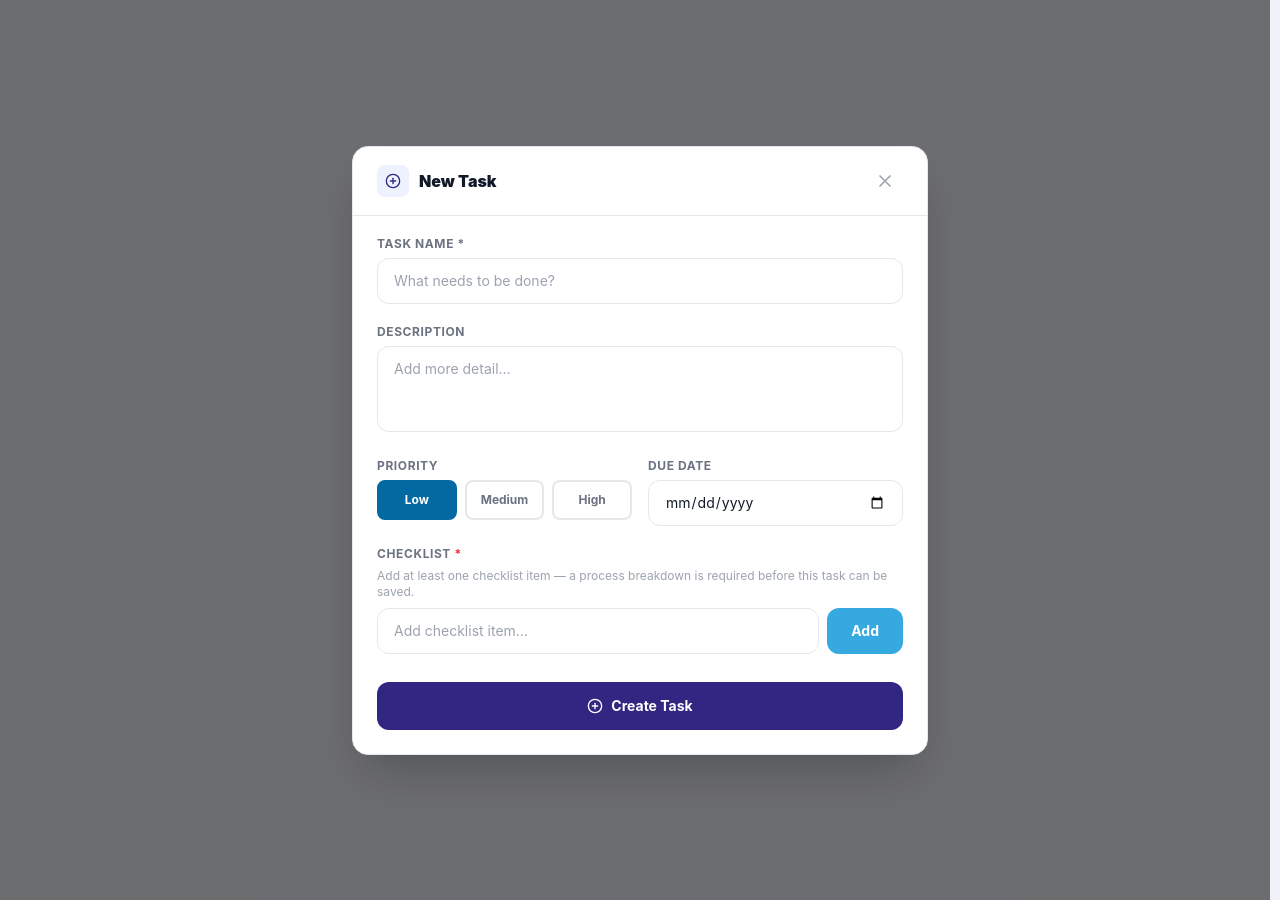
Test: TaskModal › requires at least one checklist item before save
The width and height of the screenshot is (1280, 900).
In the field with placeholder "What needs to be done?": (640, 280) [377, 258, 903, 304], type "Prepare project update"
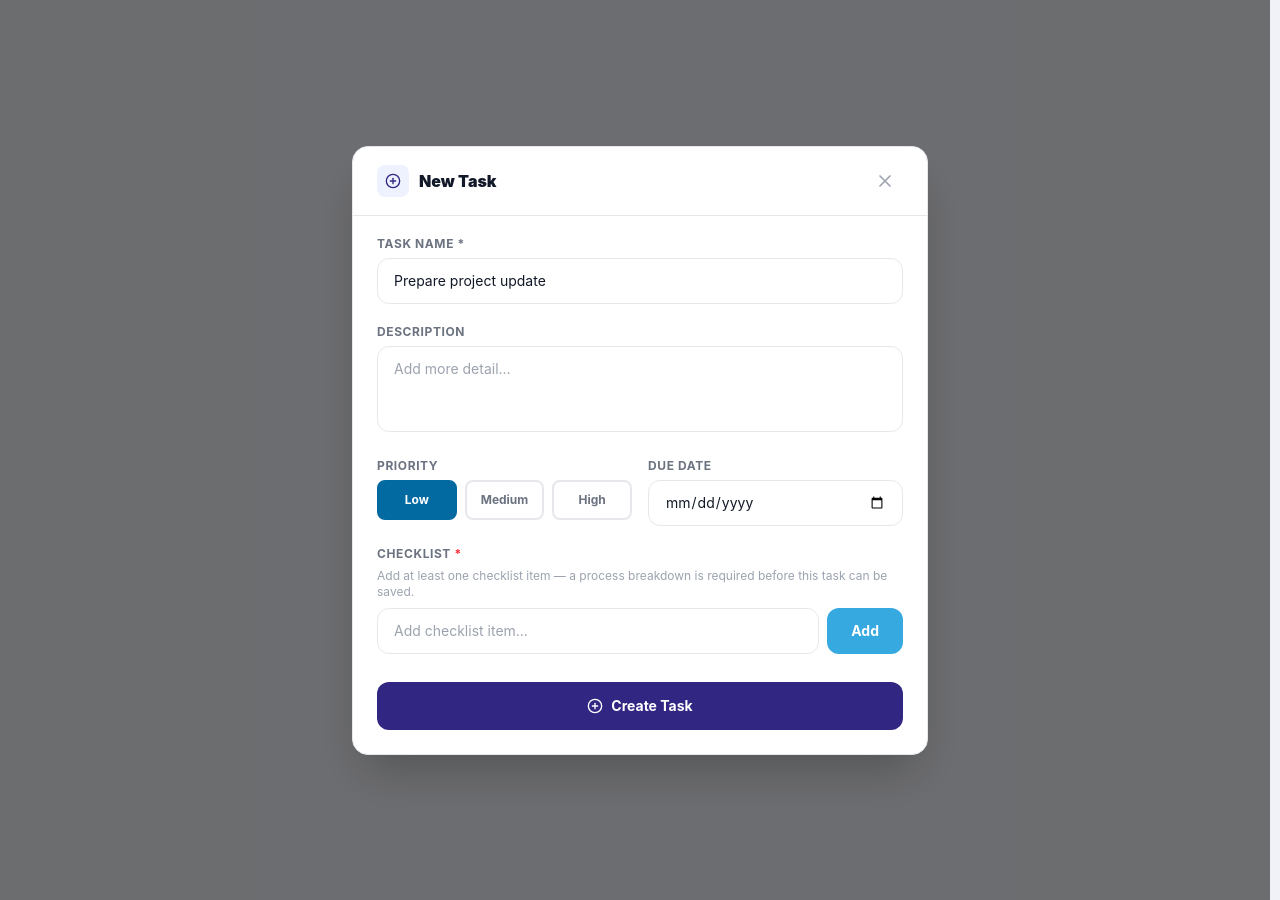
Click the button "Create Task": click(640, 706) [377, 682, 903, 730]
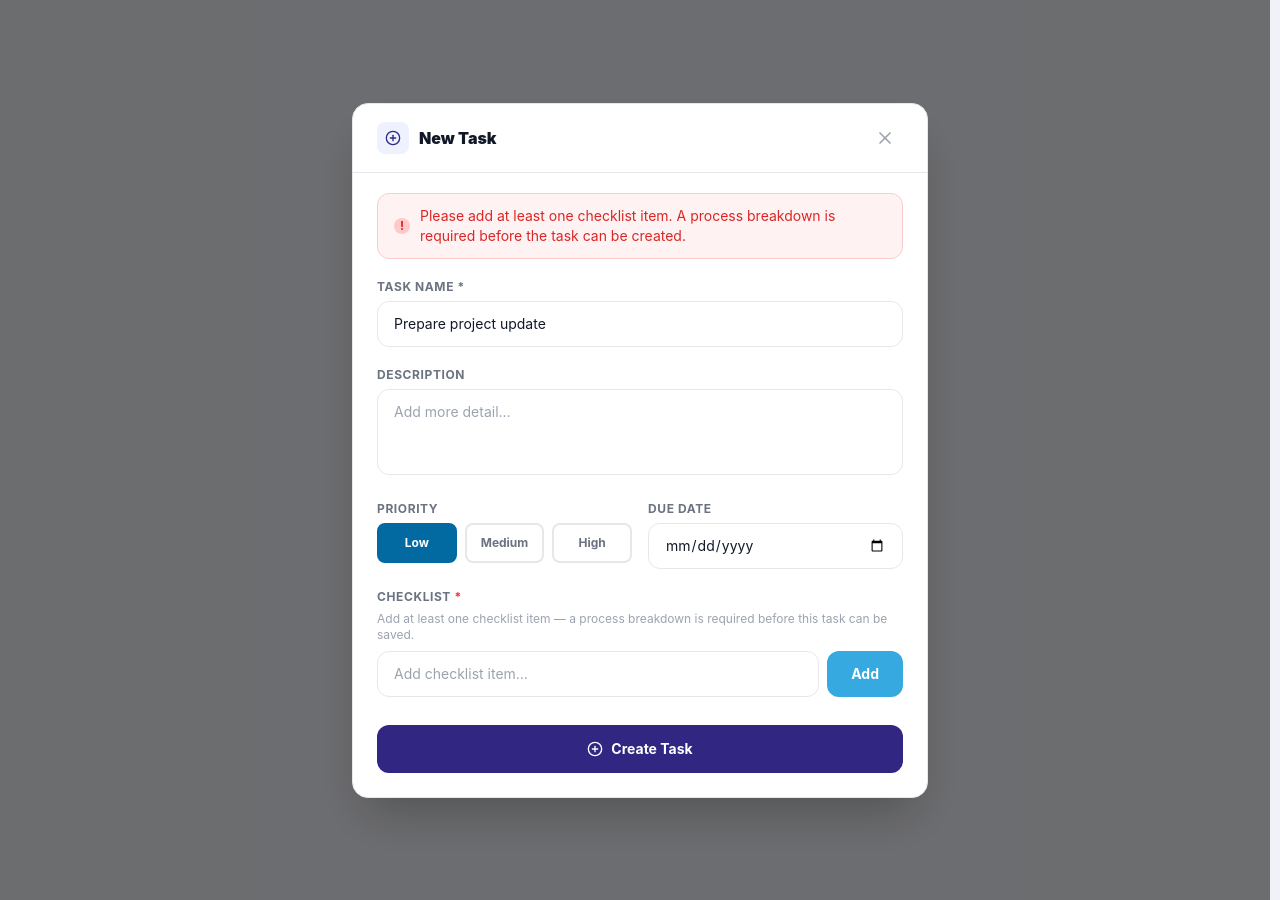
Expected: the text "Please add at least one checklist item" is shown, [420, 206, 835, 244]
